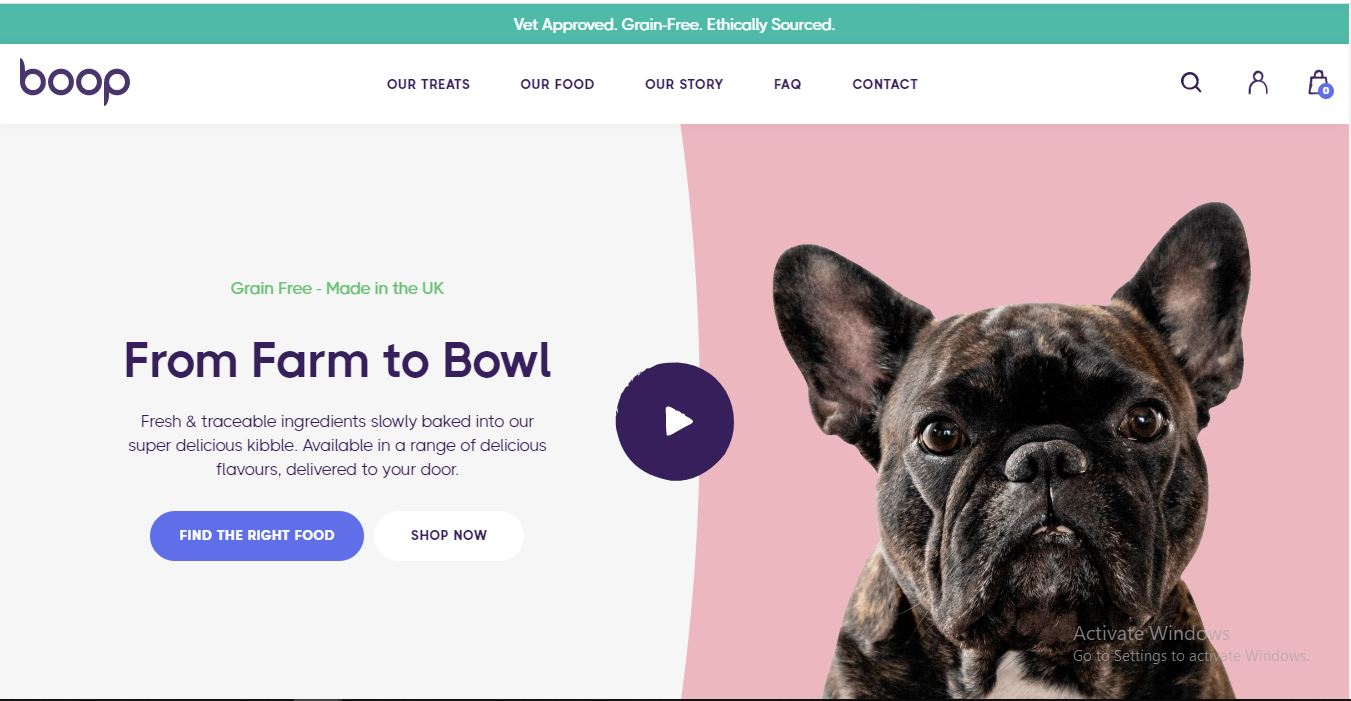Button: (610, 347, 737, 486), (143, 502, 365, 560), (385, 508, 512, 556)
Image: (685, 121, 1351, 701)
Menu Bar: (361, 58, 939, 103)
Nav Bar: (1168, 64, 1351, 107)
